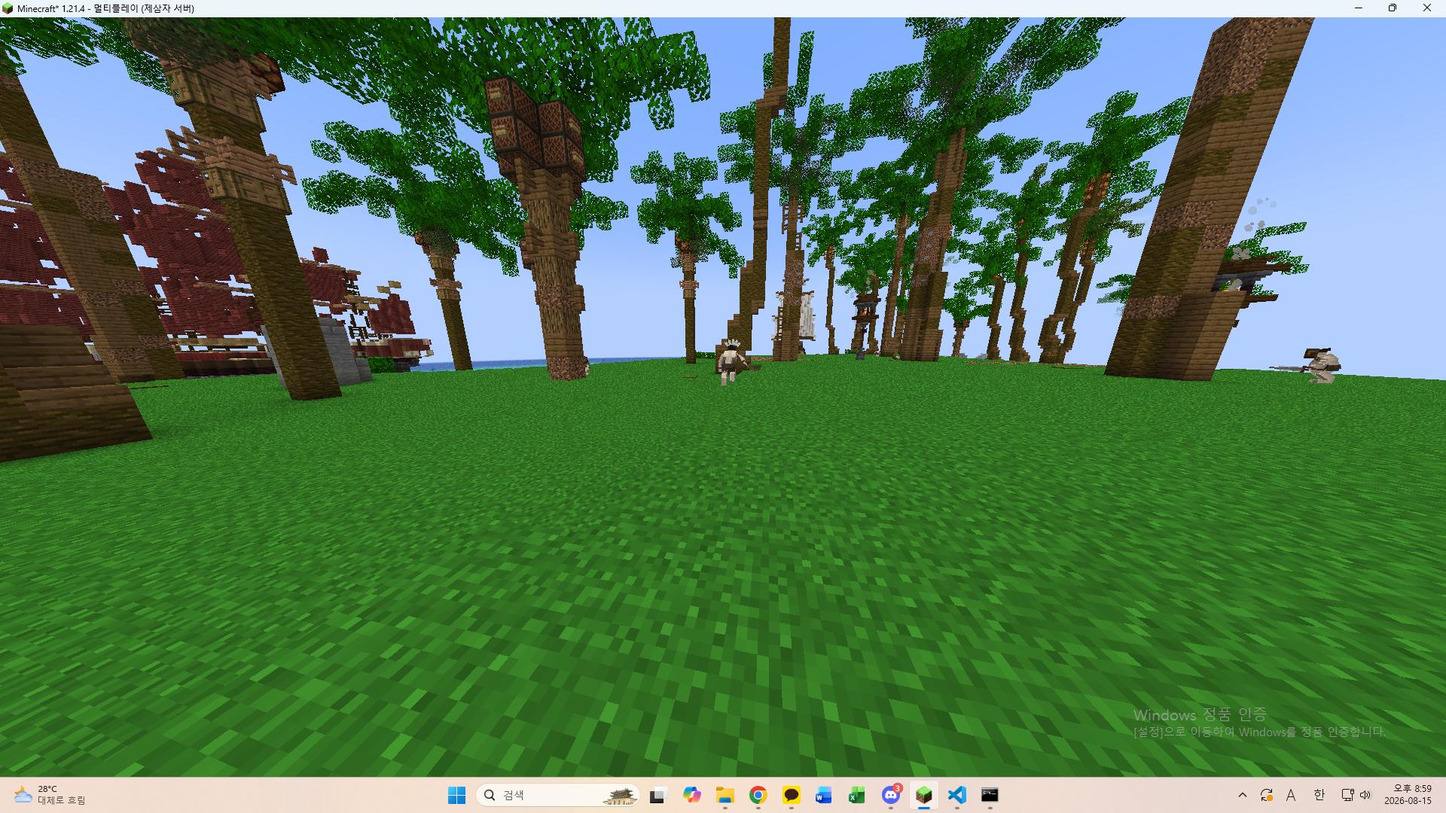bow_indian: (709, 330, 770, 390)
